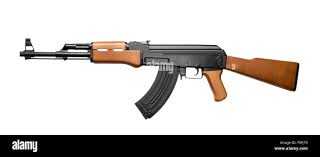gun: (18, 36, 300, 119)
